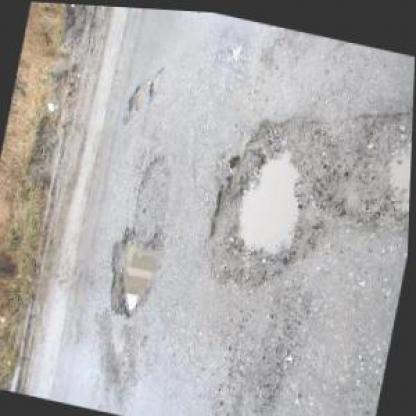pothole: (194, 88, 351, 300), (333, 88, 412, 238), (97, 219, 171, 322), (119, 78, 146, 124), (144, 62, 165, 102)
